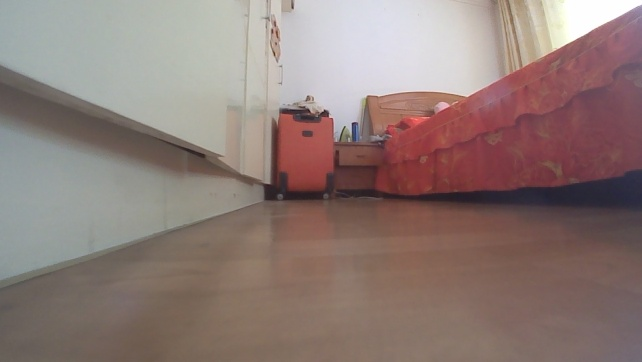bed: (362, 0, 641, 200)
cabinet: (330, 139, 383, 198)
